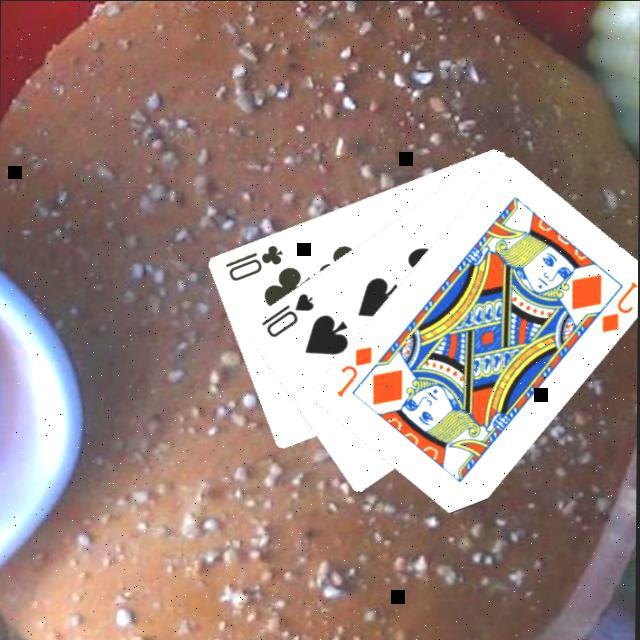10C: (220, 241, 284, 285)
10S: (256, 290, 316, 342)
JD: (330, 344, 374, 402), (595, 279, 638, 338)
